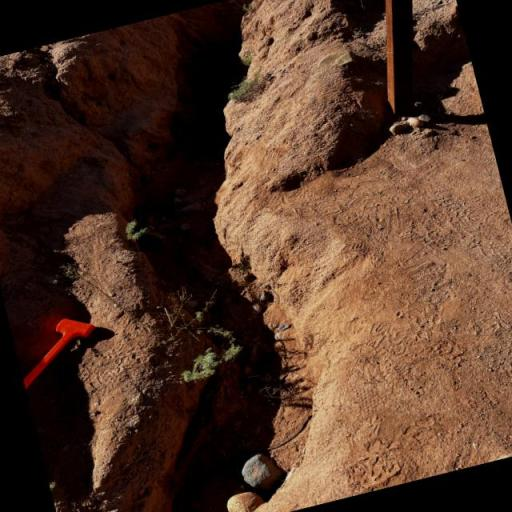mallet: (11, 309, 106, 390)
